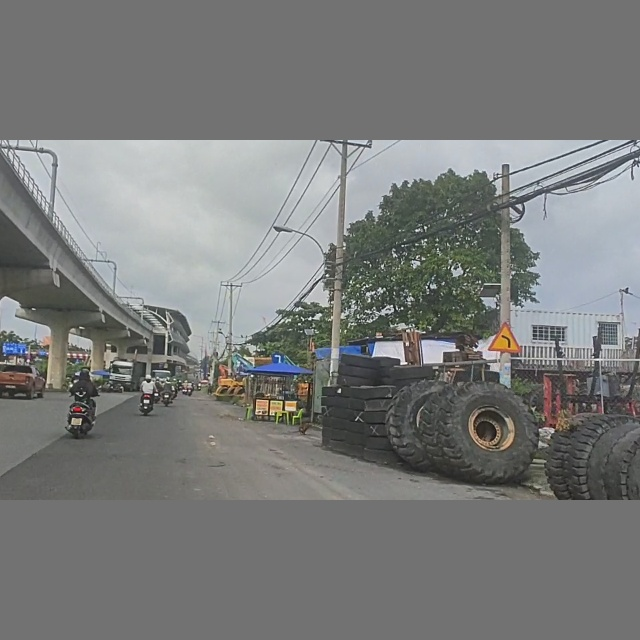R.301e: (271, 351, 285, 365)
W.201a: (489, 321, 523, 355)
